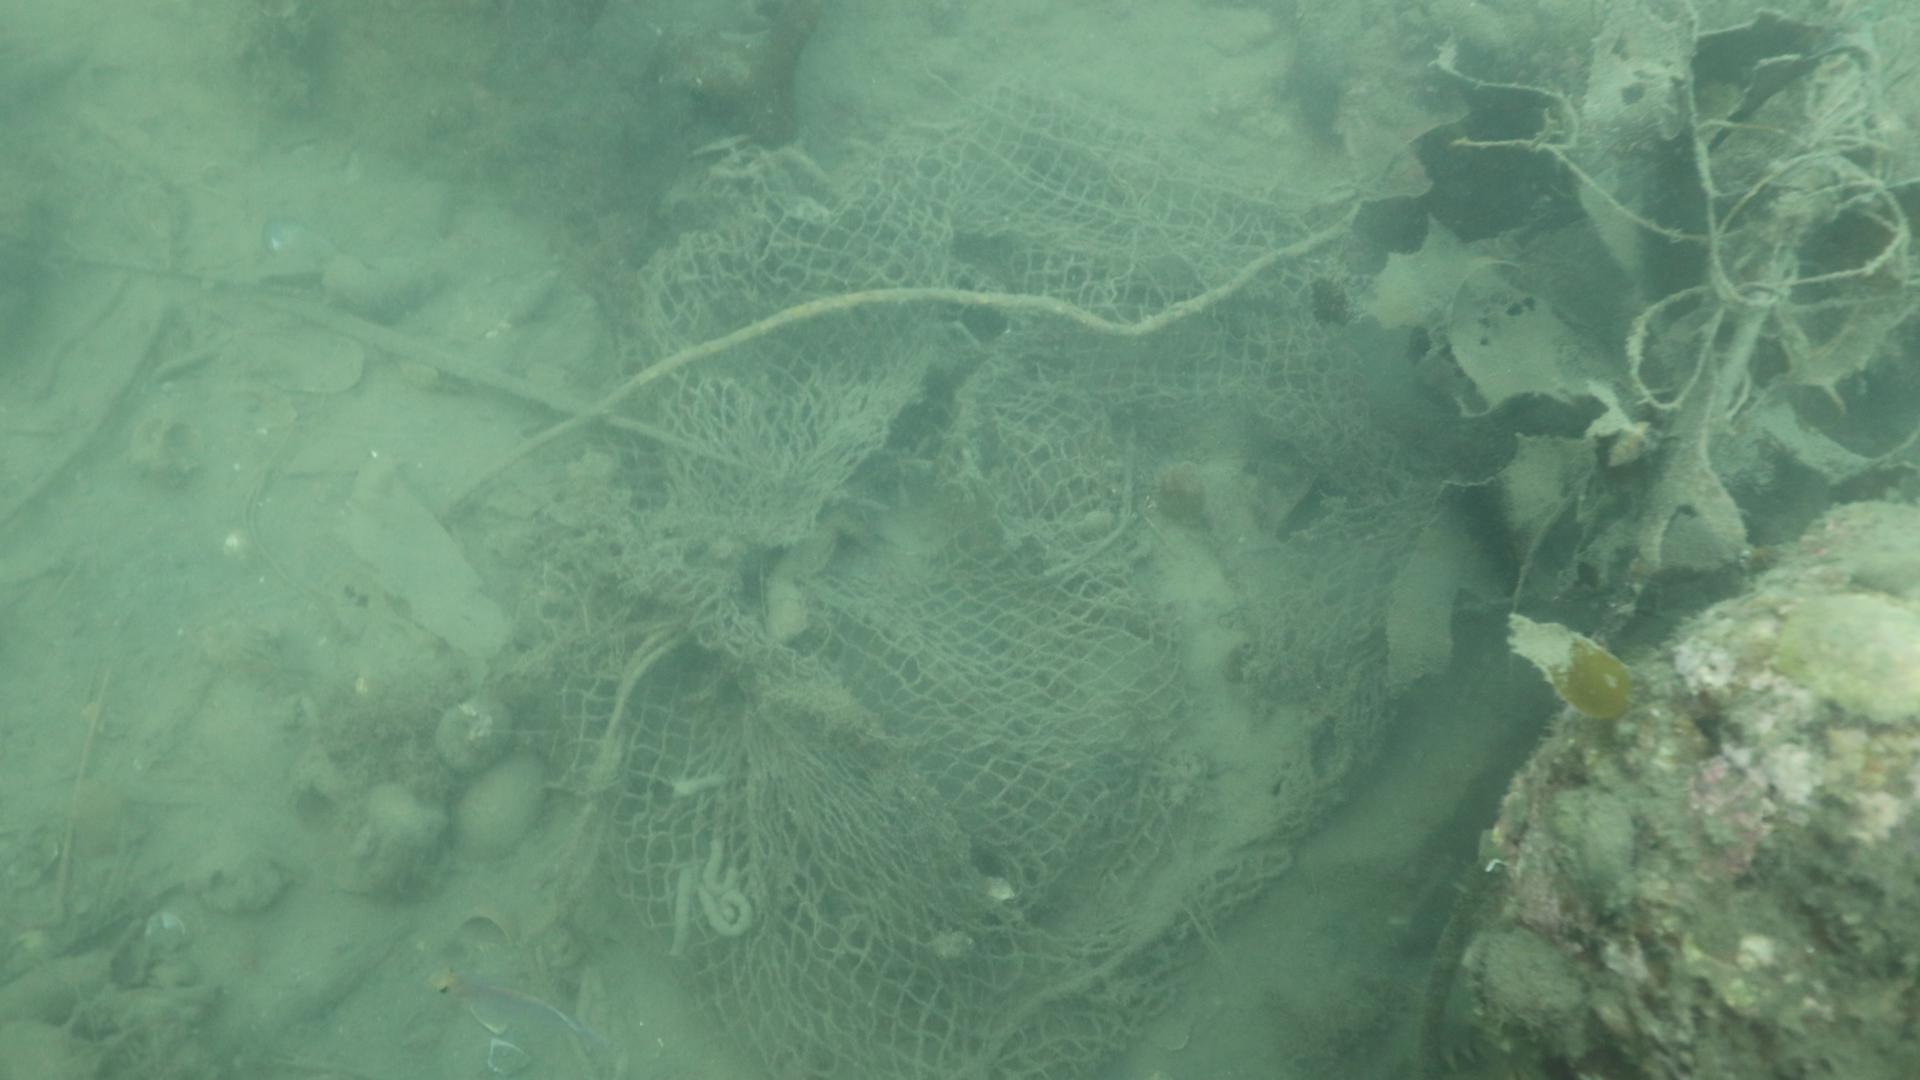fish net: (543, 78, 1456, 1080)
